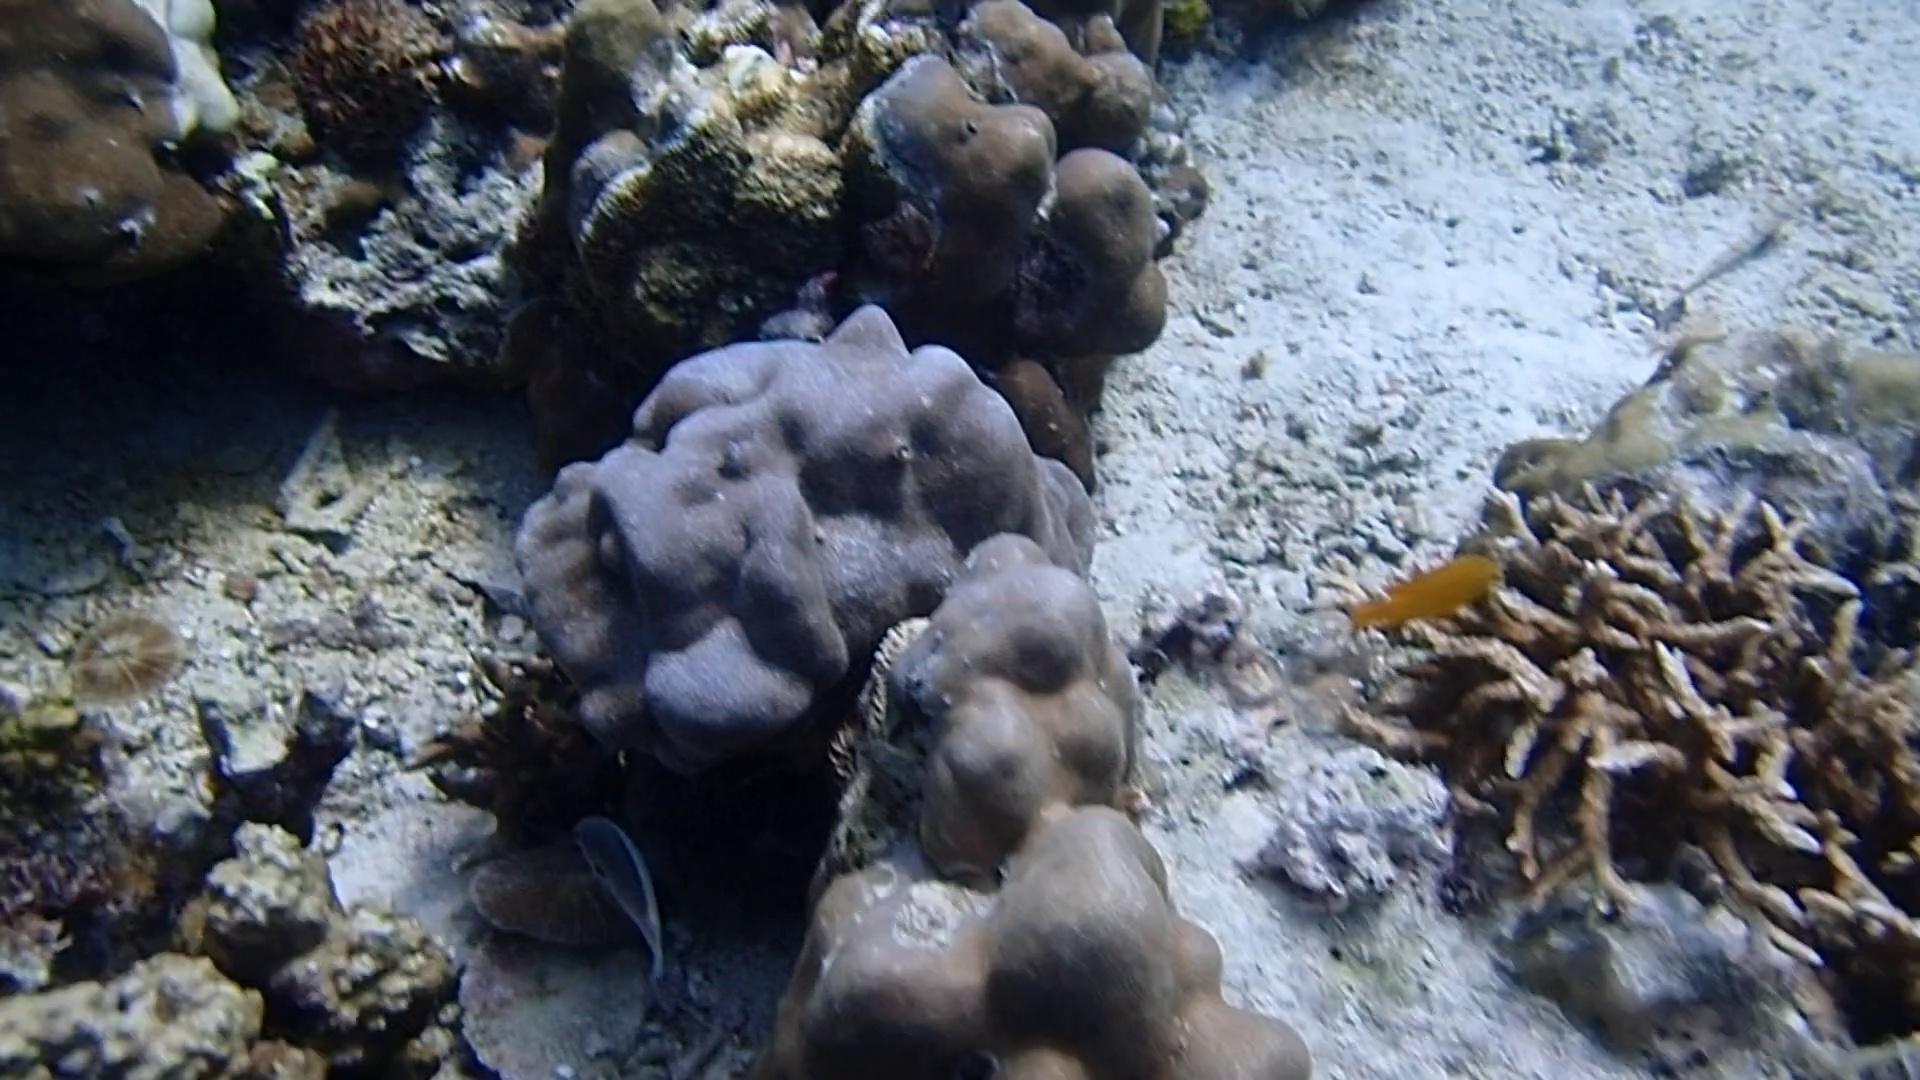Blue Fish Two: (562, 807, 695, 986)
Yellow Fish: (1341, 539, 1507, 646)
